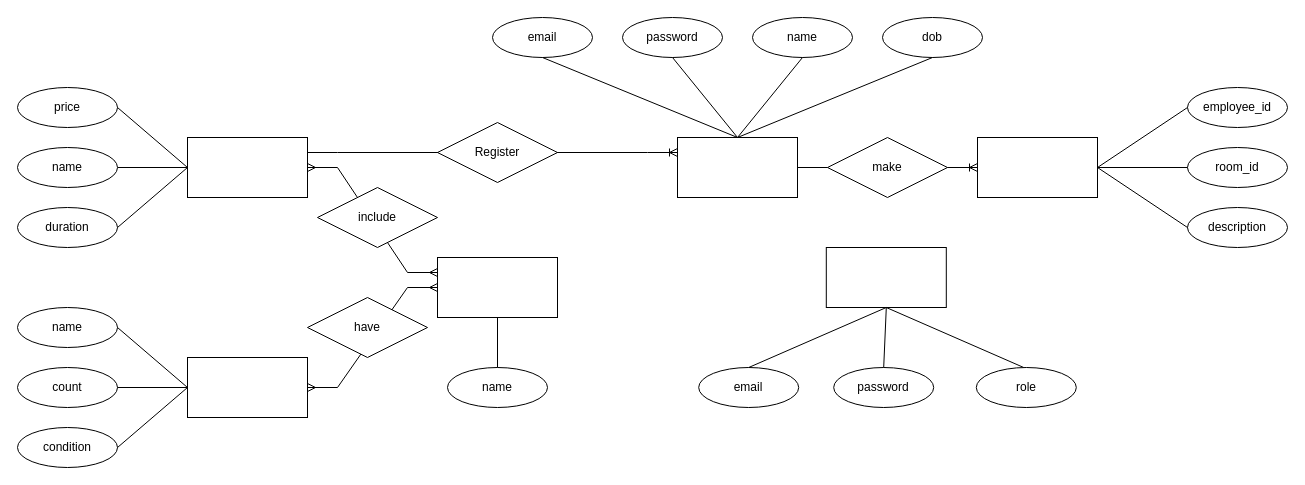
This 1305x485 diagram has some shape labels left out. Each missing label, with the centre of its shape:
"employee" goes at point (885, 277).
"equipment" goes at point (247, 387).
"feedback" goes at point (1037, 167).
"member" goes at point (737, 167).
"package" goes at point (247, 167).
"room" goes at point (497, 287).
